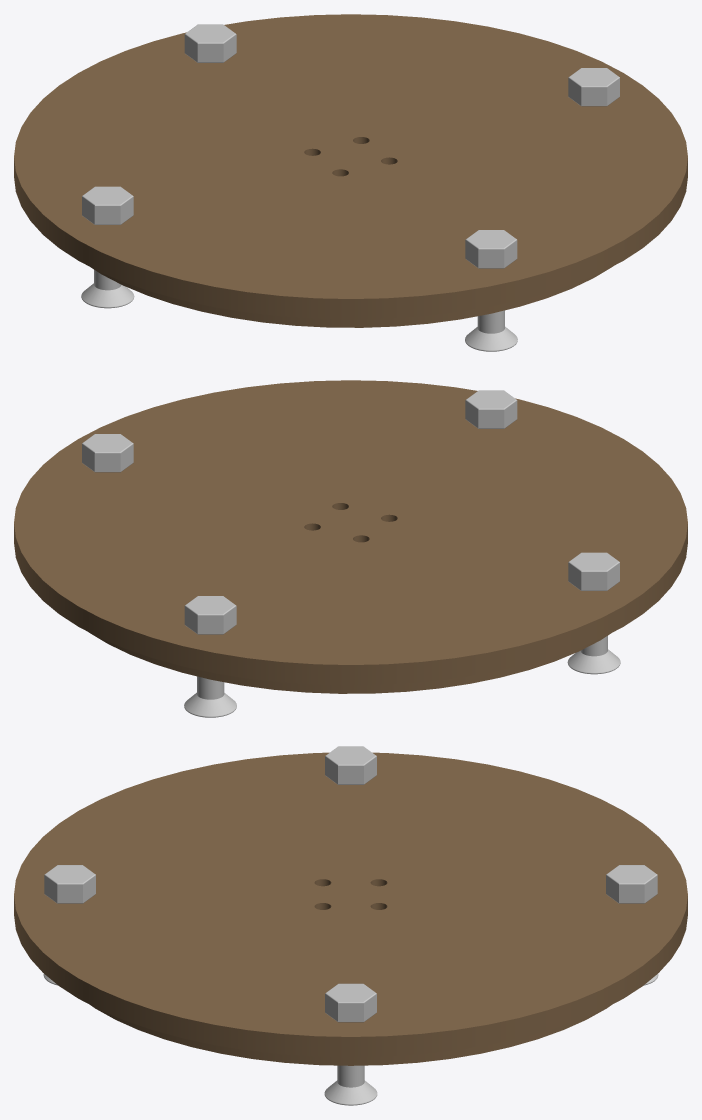
Rendered from plat_link.dae.
3 renders of one model, top to bottom at view 1: azimuth 30°, elevation 25°; view 2: azimuth 150°, elevation 25°; view 3: azimuth 270°, elevation 25°, orthographic.
Parts seen in each view (by area): view 1: Body3, Body1 (×6); view 2: Body3, Body1 (×6); view 3: Body3, Body1 (×5).
Part boxes in pixels (box(x1,y1,x2,y2)): Body3: box(14, 14, 687, 327); Body1 (×6): box(81, 24, 619, 351); Body3: box(14, 380, 687, 693); Body1 (×6): box(82, 390, 620, 717); Body3: box(14, 752, 687, 1065); Body1 (×5): box(44, 746, 657, 1105).
Size of the model in its own units: 0.12 by 0.12 by 0.02.
